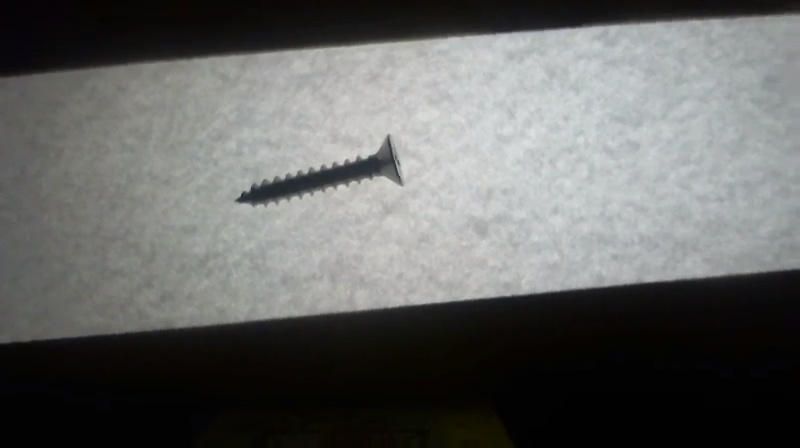S001: (229, 131, 406, 215)
